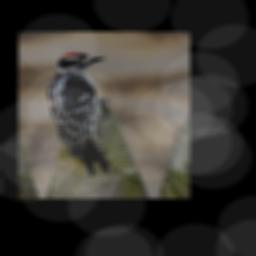Woodpecker: (44, 52, 108, 177)
